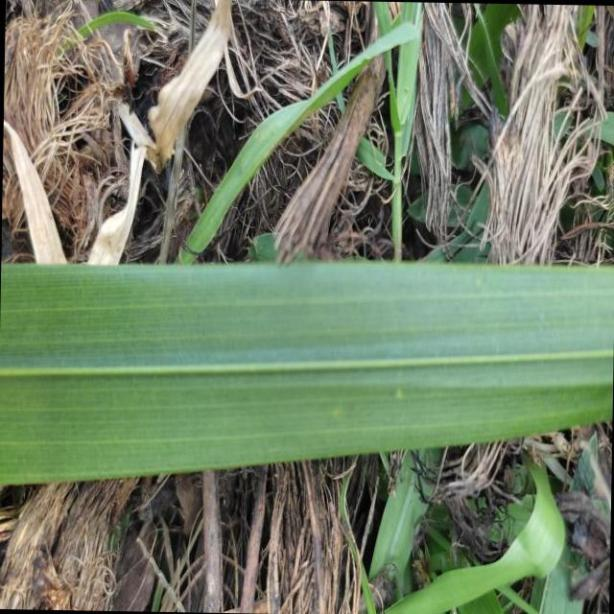Healthy: (0, 261, 614, 484)
